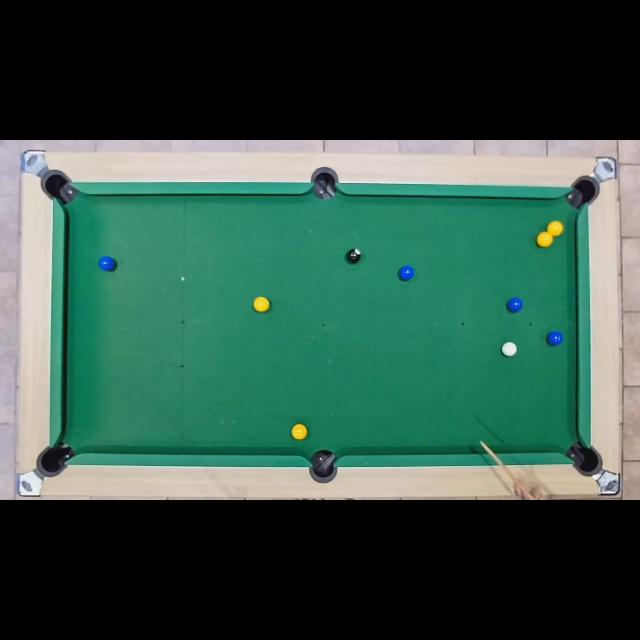Ball: (536, 232, 554, 248), (398, 266, 414, 282), (547, 331, 563, 347), (548, 222, 564, 238), (291, 424, 307, 440), (507, 298, 523, 314), (99, 258, 117, 272), (254, 298, 270, 312), (346, 248, 360, 264), (502, 342, 518, 356)
